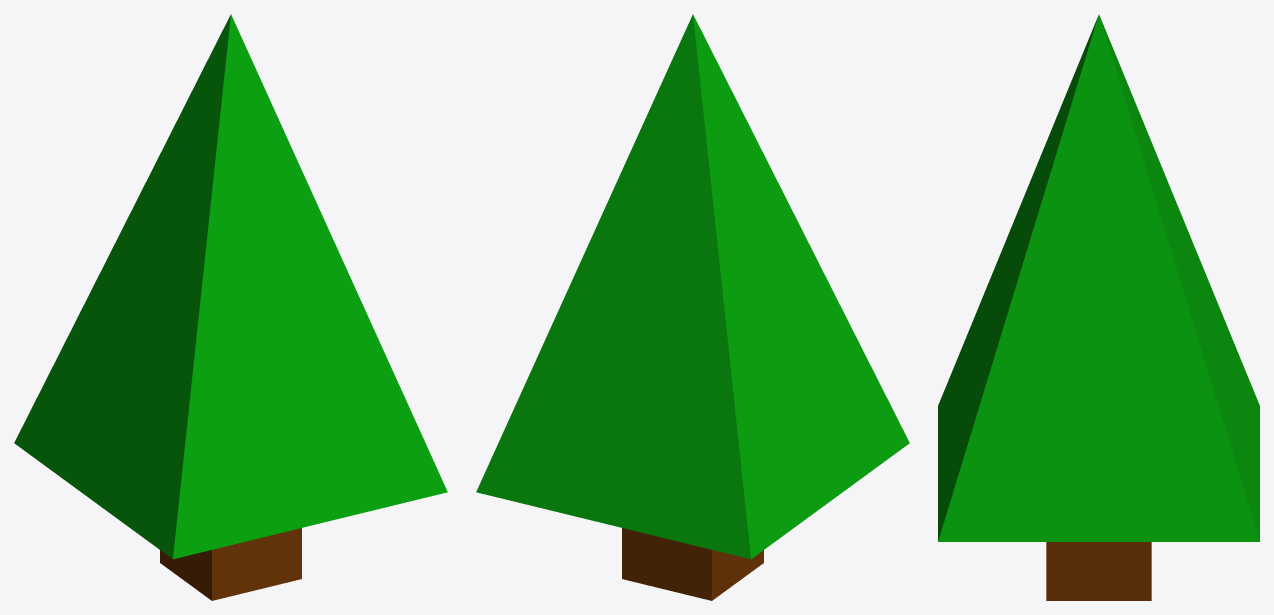
File: Tree_2.fbx
3 views of the same model, side by side, from view 1: azimuth 30°, elevation 25°; view 2: azimuth 150°, elevation 25°; view 3: azimuth 270°, elevation 25° (orthographic).
Parts seen in each view (by area): view 1: Tree_2; view 2: Tree_2; view 3: Tree_2.
Part boxes in pixels (left/top/right/bottom): Tree_2: left=14, top=14, right=447, bottom=600; Tree_2: left=476, top=14, right=909, bottom=600; Tree_2: left=938, top=14, right=1259, bottom=600.
Bounding box in the file's own units: 1.05 × 1.05 × 2.03.
